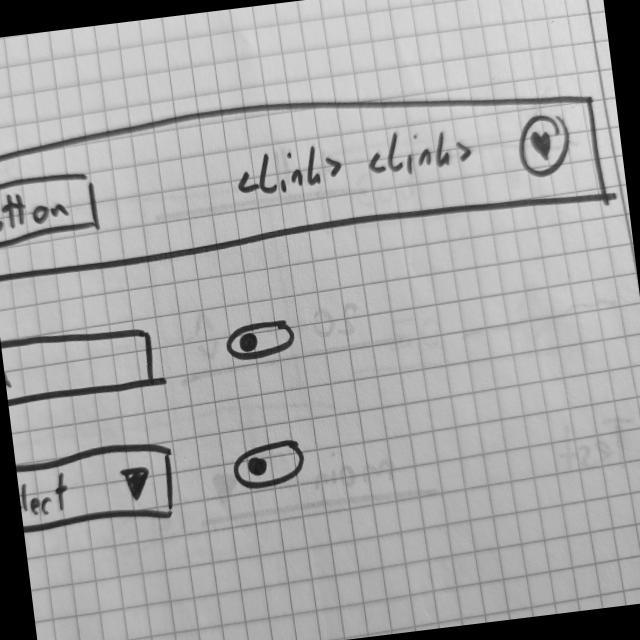button: (1, 165, 107, 259)
container: (1, 60, 612, 296)
icon-button: (514, 106, 577, 182)
input: (1, 319, 160, 417)
link: (232, 138, 350, 204), (362, 121, 477, 183)
select: (15, 436, 180, 537)
toggle: (229, 436, 310, 494), (224, 311, 305, 367)
